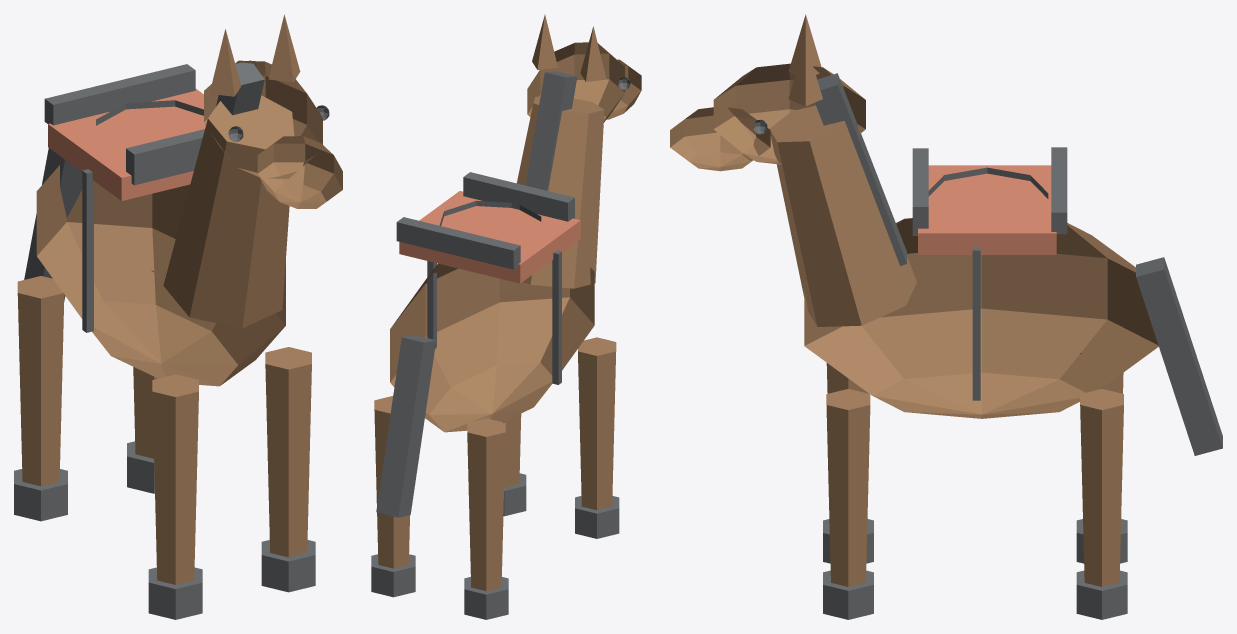
File: Creature_horse.glb
The picture shows the model from 3 angles, left to right: view 1: azimuth 30°, elevation 25°; view 2: azimuth 150°, elevation 25°; view 3: azimuth 270°, elevation 25°; orthographic projection. The views are drawn at different scales.
Visible parts, largest first — view 1: frontier-post-saddle-horse; view 2: frontier-post-saddle-horse; view 3: frontier-post-saddle-horse.
Boxes of the visible parts, x1,y1,x2,y2 form: frontier-post-saddle-horse: (14, 14, 342, 619); frontier-post-saddle-horse: (371, 14, 641, 619); frontier-post-saddle-horse: (670, 14, 1222, 619).
Bounding box in the file's own units: 0.68 × 2.29 × 2.07.
